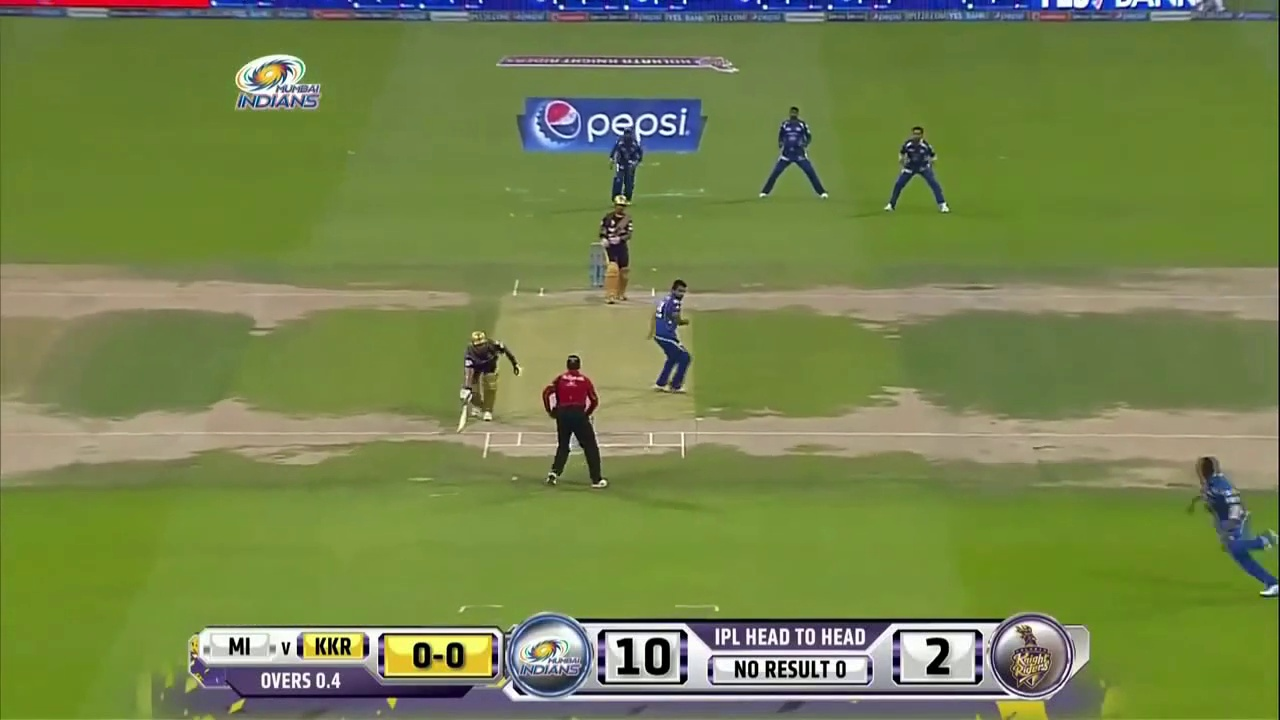bat: (456, 406, 469, 432)
